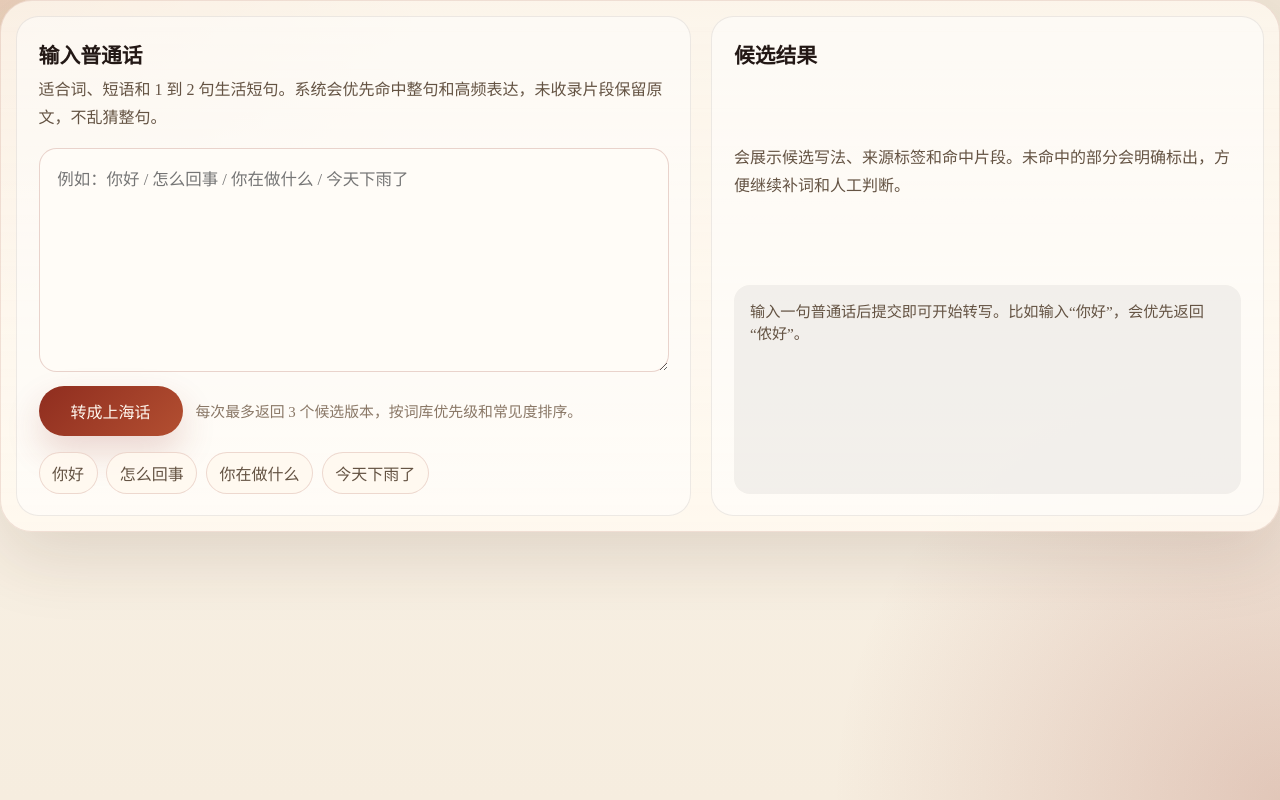
Test: TranslatorPanel › submits input and renders translation results
Type "你好" into the text box named "普通话输入框" at (354, 260), box [39, 148, 669, 372]
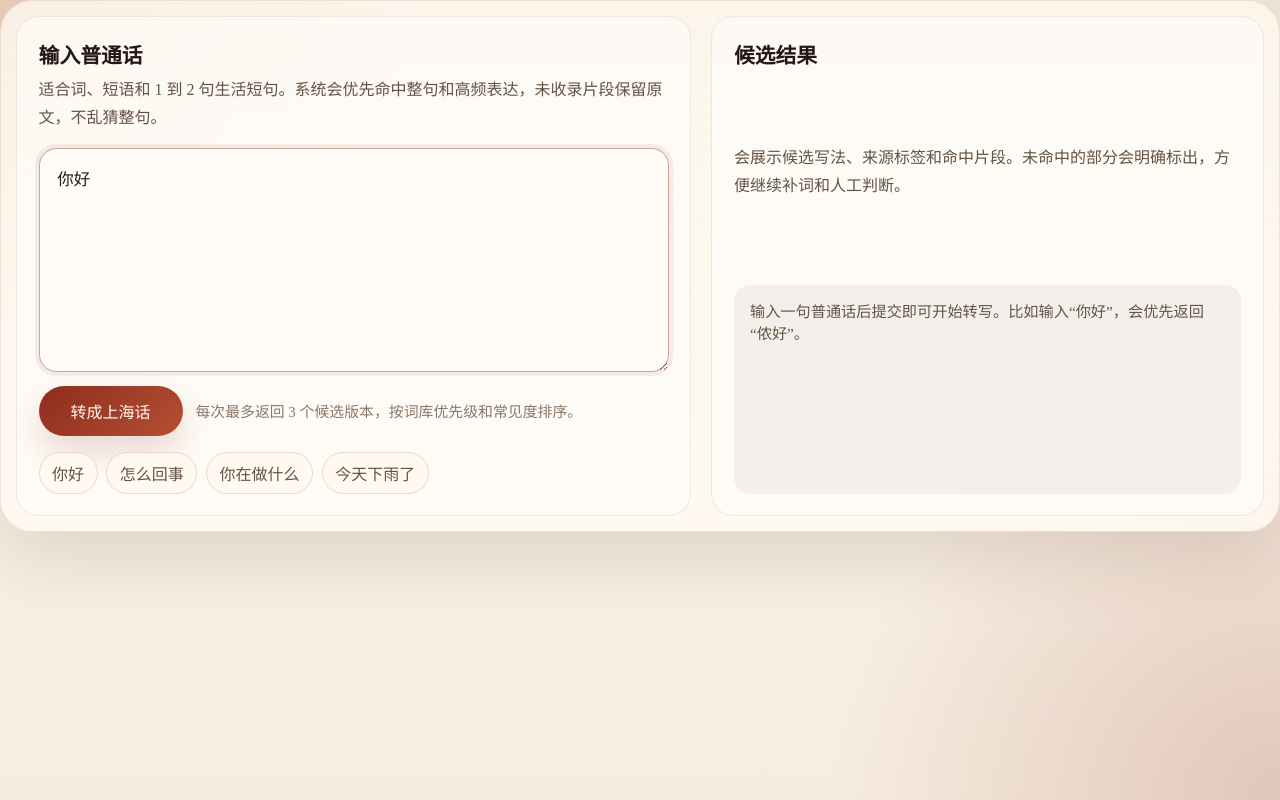
Click the button "转成上海话" at (111, 411), box [39, 386, 183, 436]
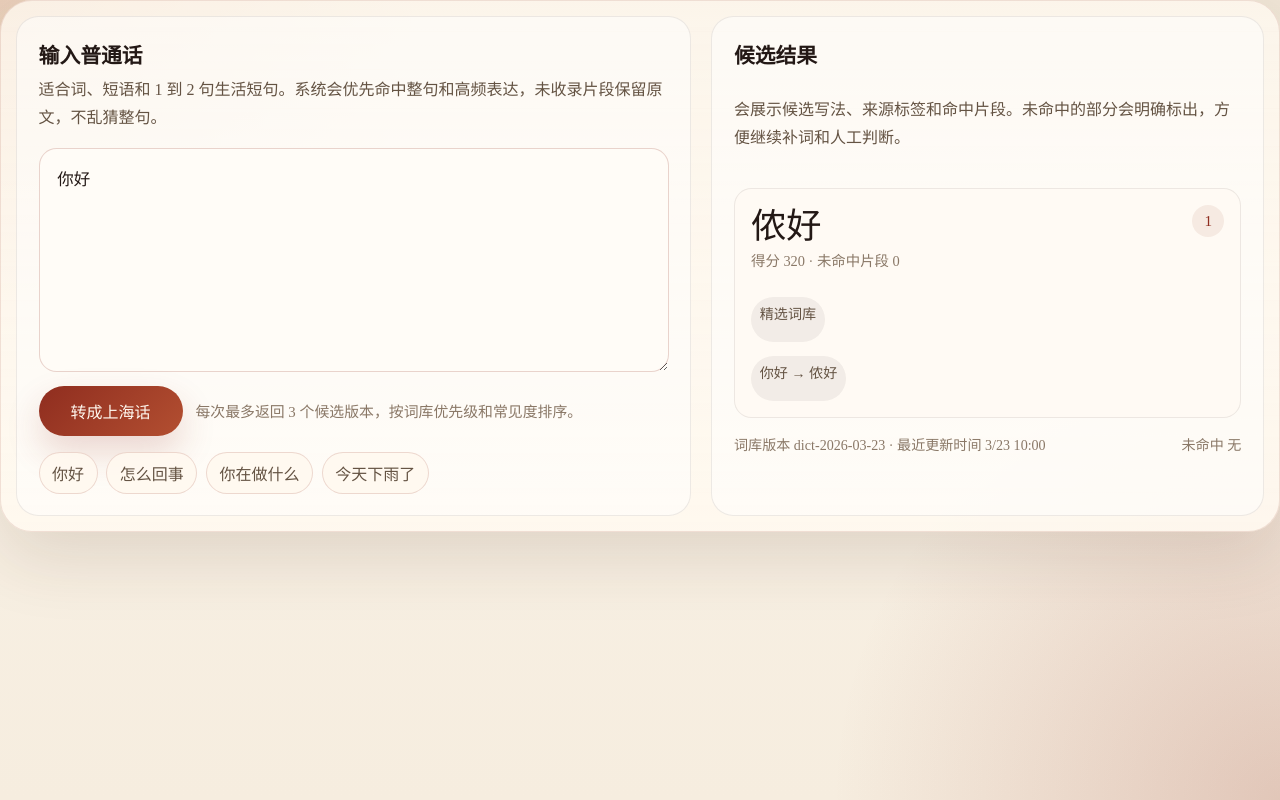
Now the text "侬好" is shown, box [751, 207, 821, 246]
Now the text "精选词库" is shown, box [751, 297, 825, 342]
